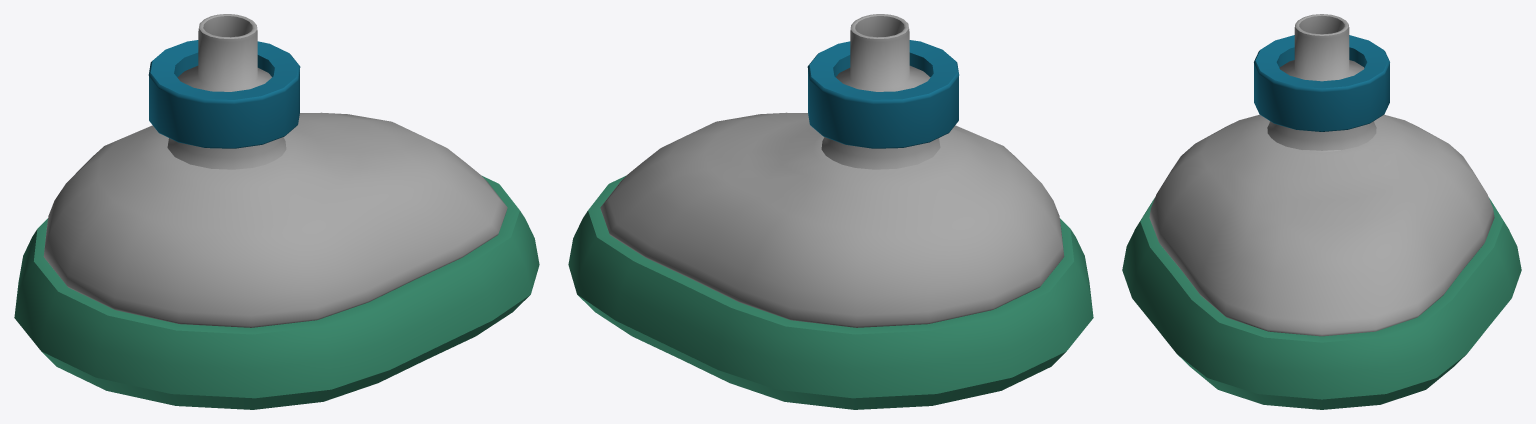
Rendered from ambu (1).fbx.
The picture shows the model from 3 angles, left to right: view 1: azimuth 30°, elevation 25°; view 2: azimuth 150°, elevation 25°; view 3: azimuth 270°, elevation 25°; orthographic projection. The views are drawn at different scales.
Parts seen in each view (by area): view 1: AmpuBag_01; view 2: AmpuBag_01; view 3: AmpuBag_01.
Part boxes in pixels (<box>): AmpuBag_01: <box>14,14,539,409</box>; AmpuBag_01: <box>568,14,1093,409</box>; AmpuBag_01: <box>1122,14,1521,409</box>.
Bounding box in the file's own units: 50.42 × 30.45 × 41.14.
